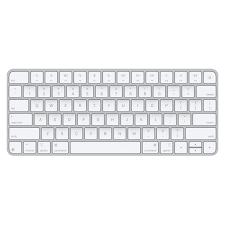keyboard: (6, 67, 218, 156)
